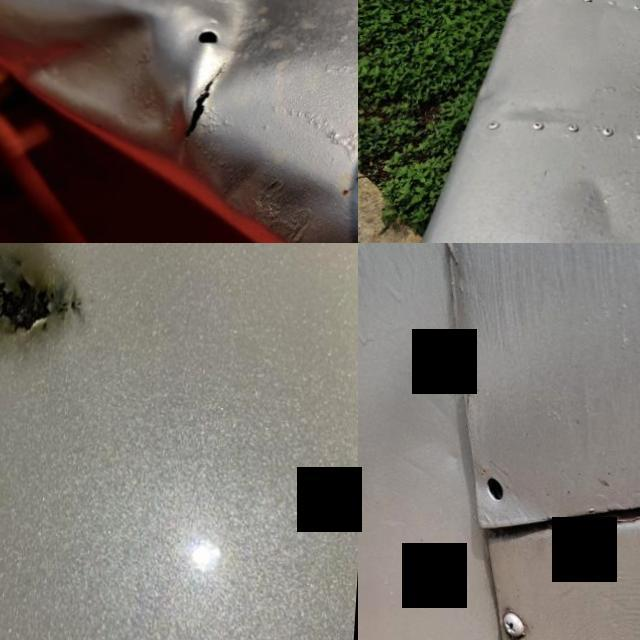Crack: (176, 44, 248, 162), (0, 246, 84, 328)
Dent: (0, 0, 234, 164), (161, 0, 358, 96), (550, 145, 640, 243), (417, 208, 585, 243)
Missing_Fastener: (454, 445, 528, 520)
